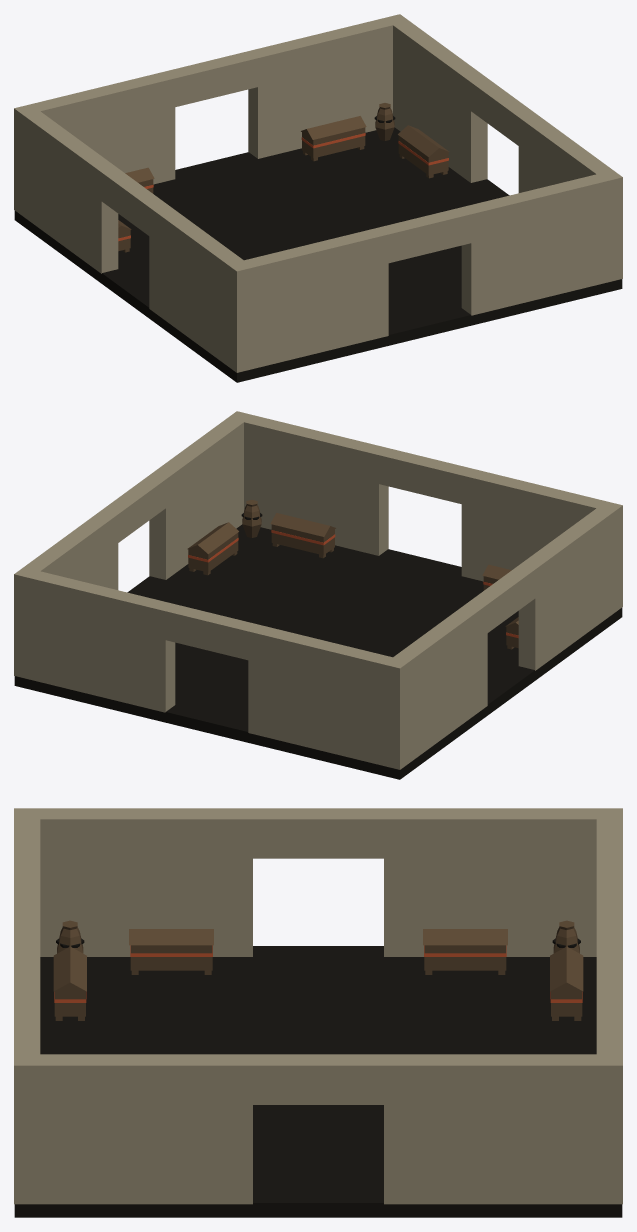
The model's file is BronzeLarnaxVault.fbx.
The picture shows the model from 3 angles, top to bottom: view 1: azimuth 30°, elevation 25°; view 2: azimuth 150°, elevation 25°; view 3: azimuth 270°, elevation 25°; orthographic projection. The views are drawn at different scales.
Visible parts, largest first — view 1: BronzeLarnaxVault; view 2: BronzeLarnaxVault; view 3: BronzeLarnaxVault.
Boxes of the visible parts, bbox=[...] form: BronzeLarnaxVault: bbox=[14, 14, 622, 382]; BronzeLarnaxVault: bbox=[14, 411, 622, 779]; BronzeLarnaxVault: bbox=[14, 808, 622, 1217].
Bounding box in the file's own units: 1202 × 332 × 1202.
Materials: 4 (4 with a texture image).
